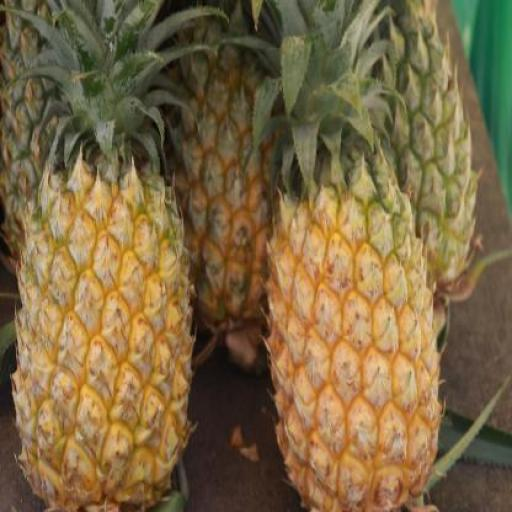Pineapple - v8 v1: (269, 180, 442, 512), (21, 166, 186, 512)
